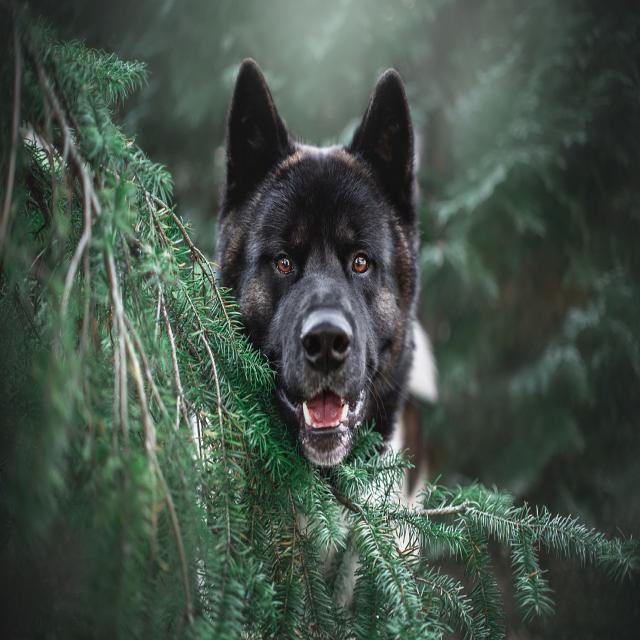dog: (223, 61, 422, 470)
